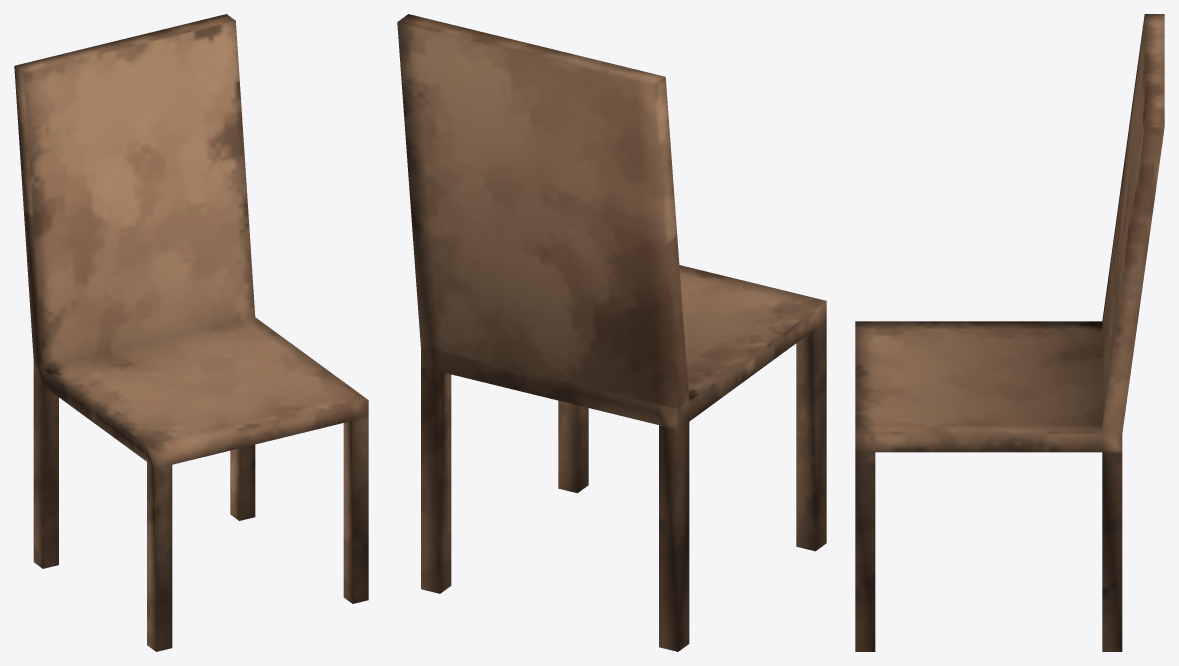
Rendered from Chair1.fbx.
3 views of the same model, side by side, from view 1: azimuth 30°, elevation 25°; view 2: azimuth 150°, elevation 25°; view 3: azimuth 270°, elevation 25° (orthographic). The views are drawn at different scales.
Visible parts, largest first — view 1: Chair1; view 2: Chair1; view 3: Chair1.
Boxes of the visible parts, x1,y1,x2,y2 form: Chair1: (14,14,368,651); Chair1: (397,14,826,651); Chair1: (855,14,1164,651).
Bounding box in the file's own units: 0.63 × 1.37 × 0.73.
